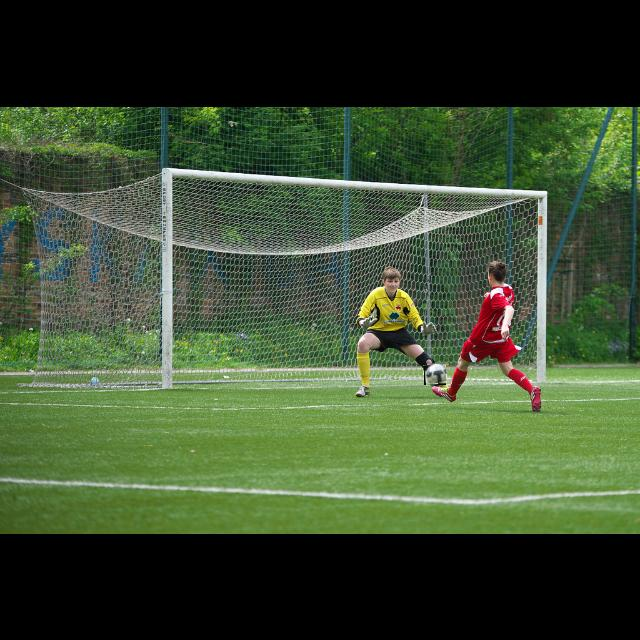Football: (424, 363, 446, 385)
